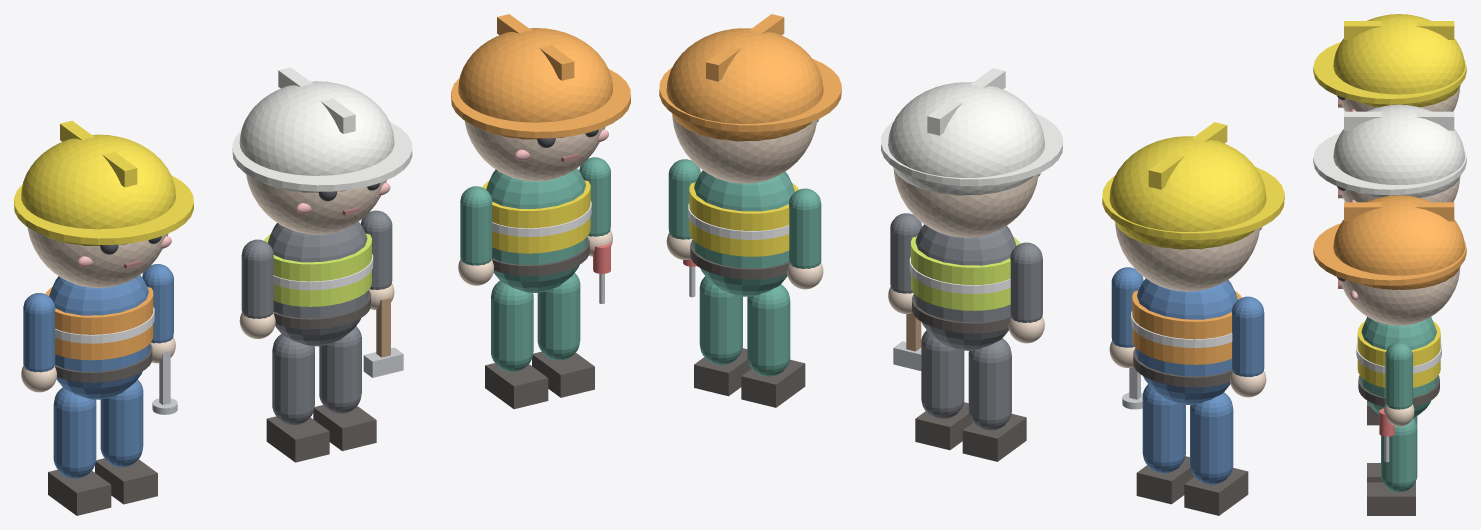
Rendered from crew.glb.
3 renders of one model, left to right at view 1: azimuth 30°, elevation 25°; view 2: azimuth 150°, elevation 25°; view 3: azimuth 270°, elevation 25°, orthographic. The views are drawn at different scales.
Parts seen in each view (by area): view 1: worker_1_head_g6, worker_0_head_g6, worker_2_head_g6, worker_1_body_g0, worker_0_body_g0, worker_2_body_g0, worker_1_head_g0, worker_2_head_g0, worker_0_head_g0, worker_2_body_g1, worker_0_body_g1, worker_1_body_g1 (+32 smaller); view 2: worker_1_head_g6, worker_0_head_g6, worker_2_head_g6, worker_2_body_g0, worker_0_body_g0, worker_1_body_g0, worker_1_head_g0, worker_0_head_g0, worker_2_head_g0, worker_2_body_g1, worker_0_body_g1, worker_1_body_g1 (+33 smaller); view 3: worker_2_head_g6, worker_1_head_g6, worker_0_head_g6, worker_2_head_g0, worker_2_body_g0, worker_2_head_g7, worker_0_head_g7, worker_1_head_g7, worker_2_leg_r_g0, worker_2_body_g1, worker_2_arm_r_g0, worker_2_leg_r_g1 (+11 smaller).
Boxes of the visible parts, x1,y1,x2,y2 form: worker_1_head_g6: (239, 81, 394, 192); worker_0_head_g6: (21, 134, 175, 245); worker_2_head_g6: (458, 28, 612, 139); worker_1_body_g0: (267, 221, 368, 346); worker_0_body_g0: (49, 275, 150, 399); worker_2_body_g0: (486, 168, 587, 292); worker_1_head_g0: (246, 174, 386, 234); worker_2_head_g0: (464, 121, 605, 181); worker_0_head_g0: (27, 227, 168, 287); worker_2_body_g1: (482, 180, 590, 253); worker_0_body_g1: (45, 287, 153, 360); worker_1_body_g1: (264, 233, 371, 306); worker_1_head_g6: (888, 82, 1044, 195); worker_0_head_g6: (1109, 136, 1266, 249); worker_2_head_g6: (666, 28, 823, 141); worker_2_body_g0: (692, 170, 794, 296); worker_0_body_g0: (1135, 278, 1237, 404); worker_1_body_g0: (914, 224, 1016, 350); worker_1_head_g0: (893, 169, 1038, 237); worker_0_head_g0: (1115, 223, 1260, 291); worker_2_head_g0: (672, 115, 817, 183); worker_2_body_g1: (689, 182, 798, 256); worker_0_body_g1: (1132, 290, 1241, 364); worker_1_body_g1: (911, 236, 1020, 310); worker_2_head_g6: (1333, 195, 1464, 289); worker_1_head_g6: (1333, 104, 1464, 197); worker_0_head_g6: (1333, 14, 1464, 107); worker_2_head_g0: (1340, 267, 1460, 325); worker_2_body_g0: (1360, 317, 1437, 417); worker_2_head_g7: (1313, 223, 1466, 285); worker_0_head_g7: (1313, 42, 1466, 104); worker_1_head_g7: (1313, 132, 1466, 195); worker_2_leg_r_g0: (1381, 418, 1417, 492); worker_2_body_g1: (1357, 321, 1440, 387); worker_2_arm_r_g0: (1385, 342, 1412, 409); worker_2_leg_r_g1: (1367, 482, 1415, 515).
Size of the model in its own units: 1.9 by 1.07 by 0.5.
